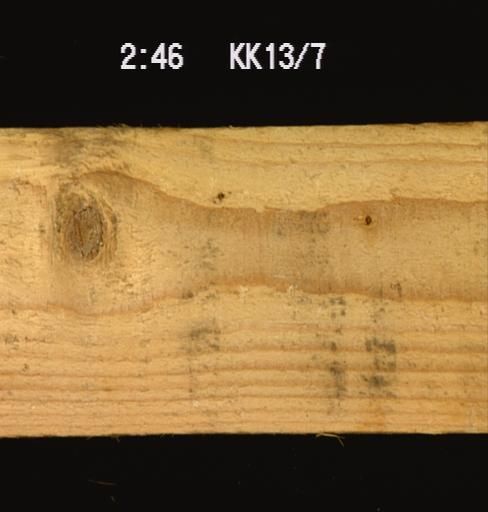dry_knot: (359, 207, 372, 228)
small_knot: (212, 183, 228, 203)
sound_knot: (45, 192, 117, 269)
